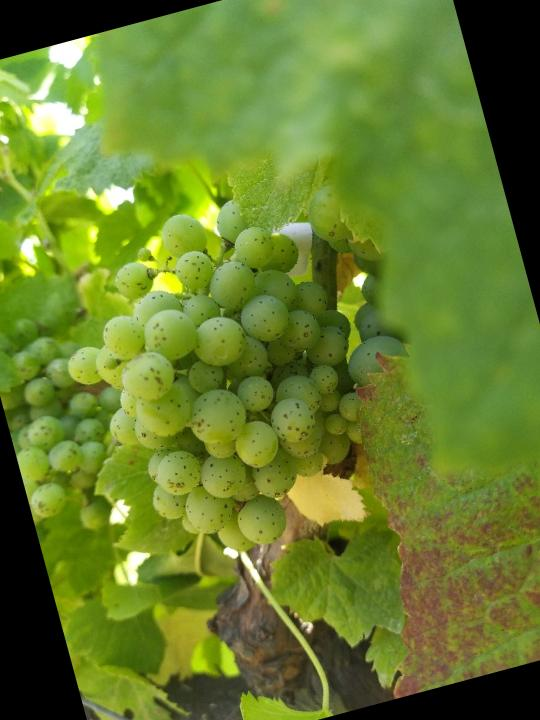grape: (35, 172, 406, 587)
